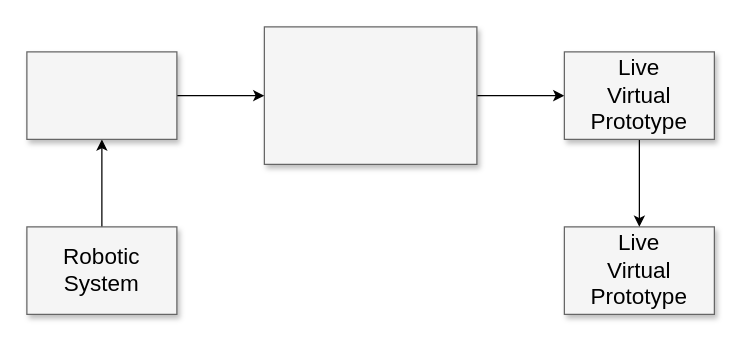
The diagram is 744 pixels wide and 345 high, and some of its shapes have lost their labels. The shapes that lost their labels are listed below. From the top down, each one's centre as x and y in pixels, then its label:
At (x=102, y=97): "Client".
At (x=371, y=97): "Computer Vision System".
